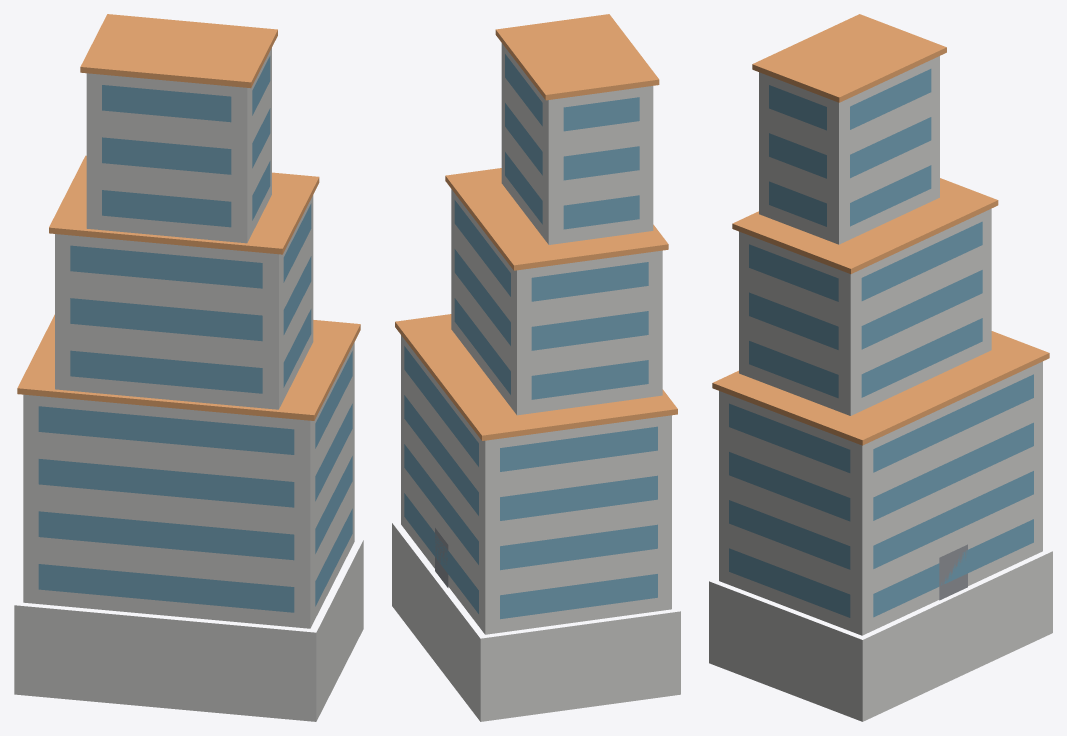
The model's file is bulding-2.glb.
The picture shows the model from 3 angles, left to right: view 1: azimuth 30°, elevation 25°; view 2: azimuth 150°, elevation 25°; view 3: azimuth 270°, elevation 25°; orthographic projection. The views are drawn at different scales.
Parts seen in each view (by area): view 1: Mod_Mid_Crossing_South_Office_01; view 2: Mod_Mid_Crossing_South_Office_01; view 3: Mod_Mid_Crossing_South_Office_01.
Part boxes in pixels (x1=…): Mod_Mid_Crossing_South_Office_01: x1=14, y1=14, x2=363, y2=721; Mod_Mid_Crossing_South_Office_01: x1=392, y1=14, x2=680, y2=721; Mod_Mid_Crossing_South_Office_01: x1=709, y1=14, x2=1052, y2=721.
Bounding box in the file's own units: 59.06 × 108 × 58.14.
